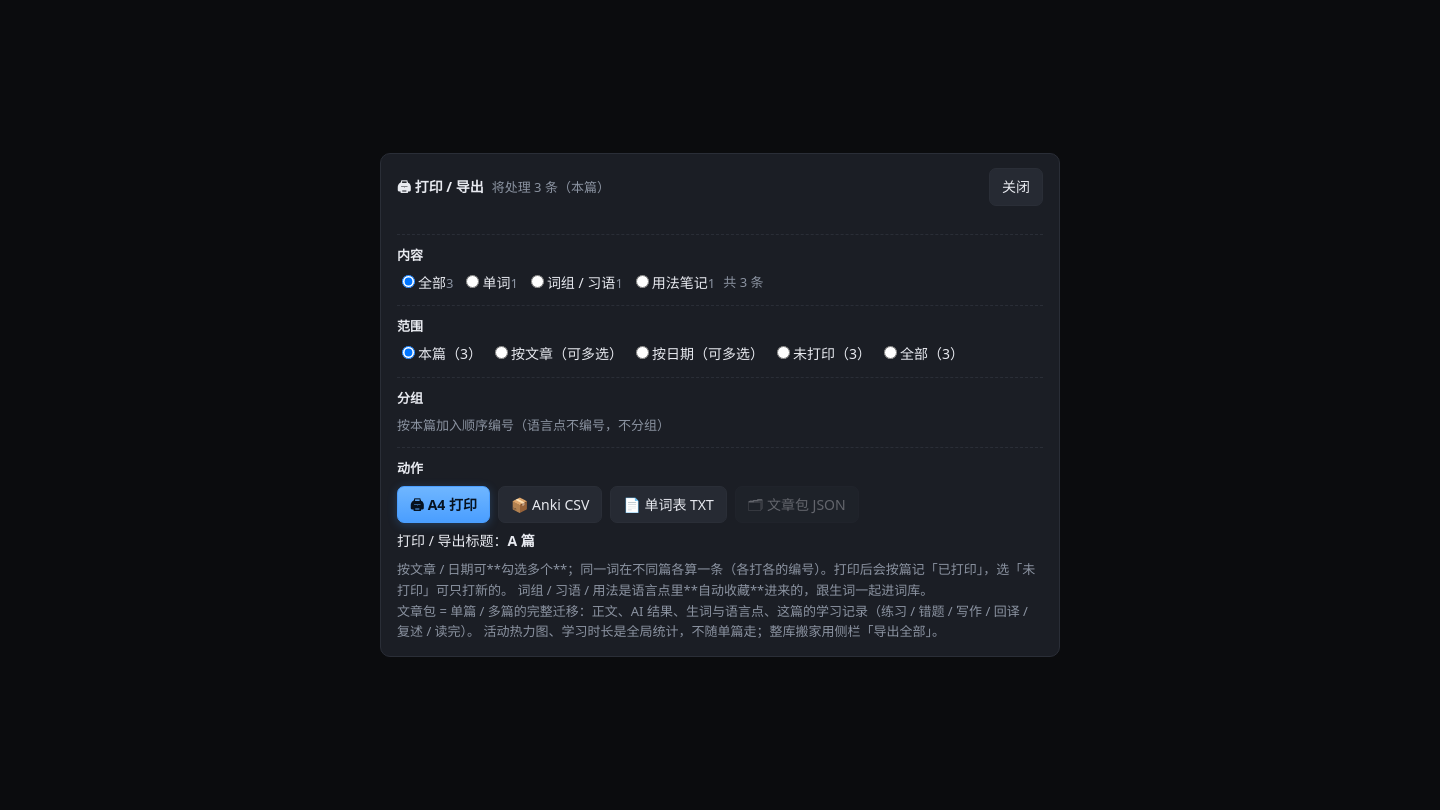
Scenario: ExportPanel：内容口径 › 用法笔记：内容选「用法笔记」时 TXT 按钮禁用（导不出单词表）
Click the radio button labelled "用法笔记1" at (642, 281), box [636, 275, 649, 288]
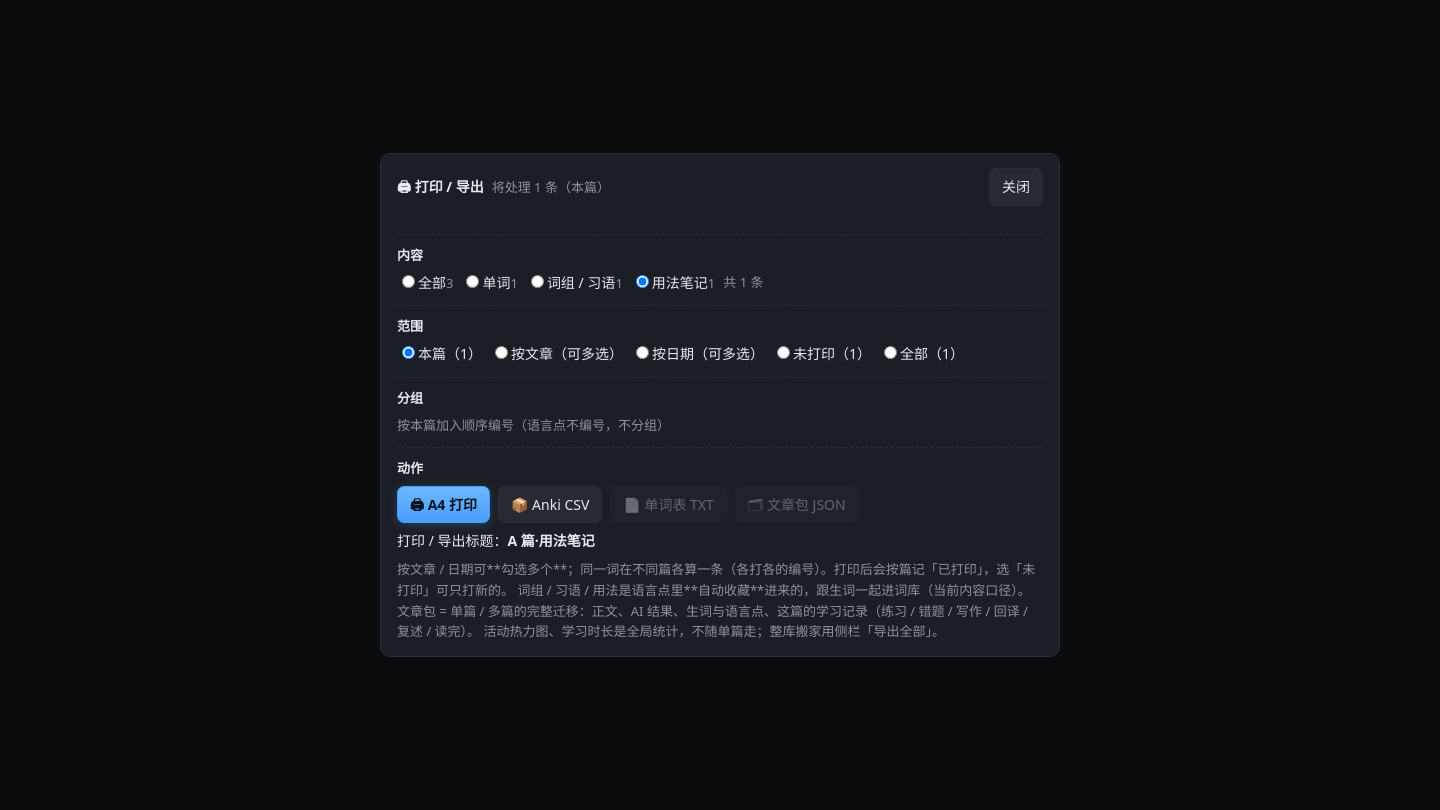
Now the text with class "muted" shows "1 条", box [492, 178, 610, 196]
Now the button "📄 单词表 TXT" is disabled, box [610, 486, 727, 523]
